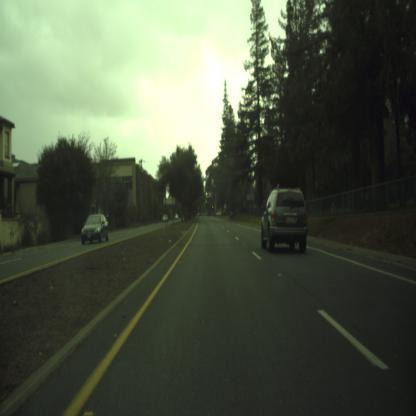Red: (205, 198, 207, 204), (212, 204, 213, 210)
RedLeft: (198, 204, 200, 210)
